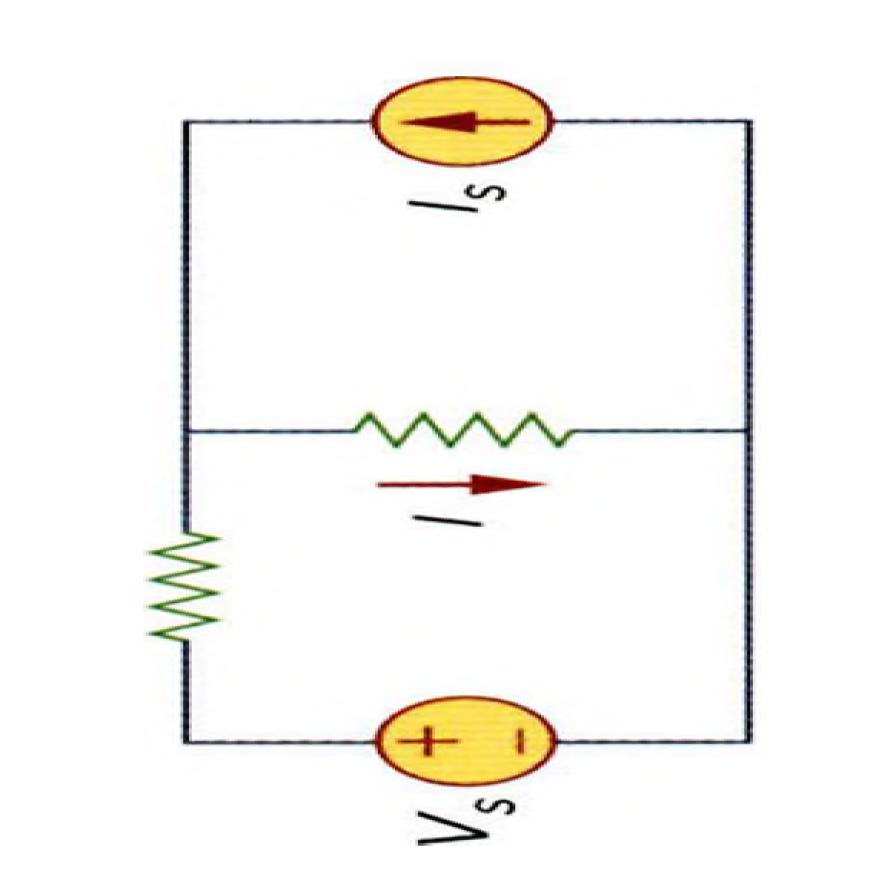I4: (370, 76, 552, 167)
V4: (380, 699, 552, 783)
